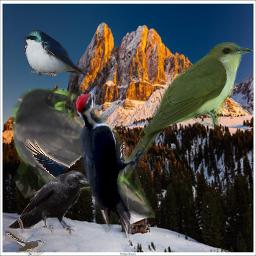Crow: (12, 88, 155, 218), (4, 170, 93, 237), (23, 133, 114, 196)
Cuckoo: (110, 42, 253, 191), (5, 230, 46, 256)
Swallow: (21, 29, 91, 76)
Woodpecker: (75, 84, 146, 238)
